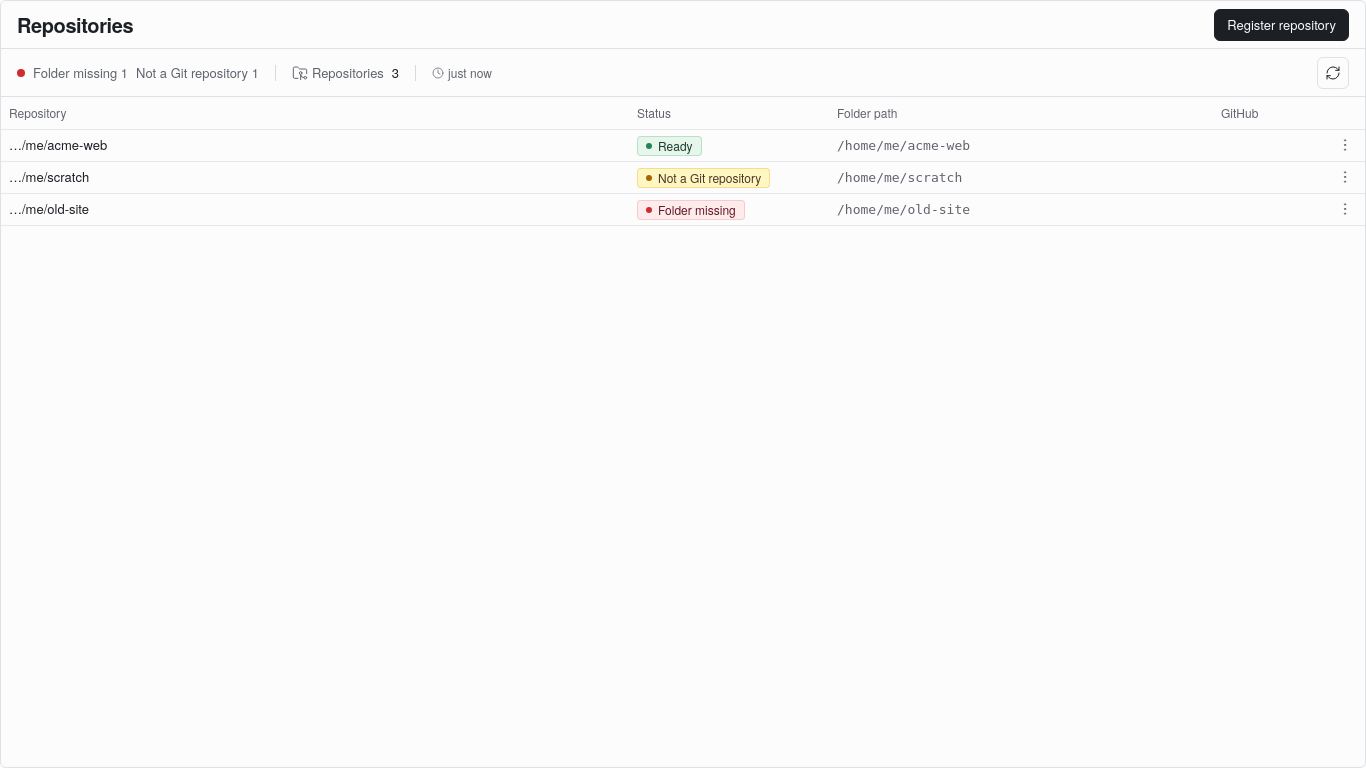
Test: Repositories › puts Unregister alone behind a divider, after View Deploy-state
What coordinates should you click on to do the following:
click the button named "Actions for …/me/old-site"
I would click on:
 (1345, 208)
Its box is [1333,196,1357,220].
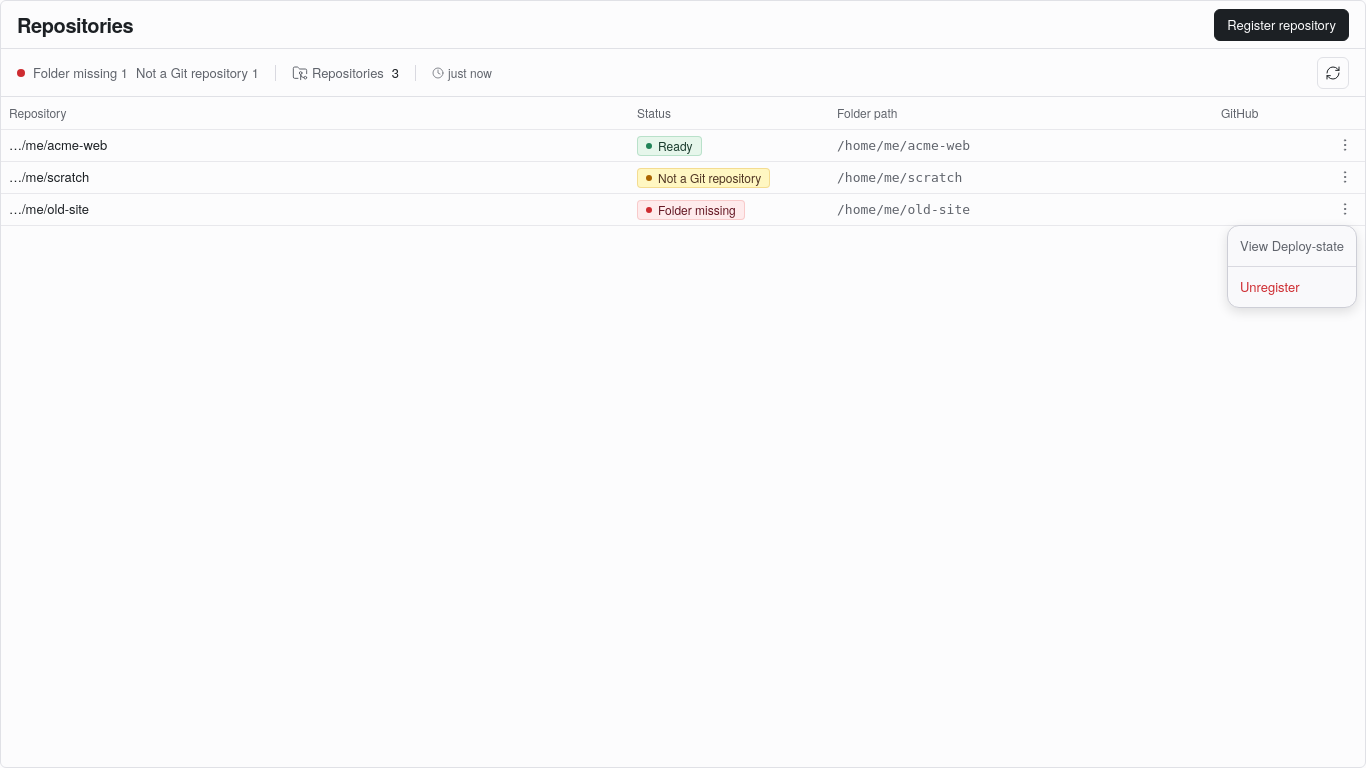
expect the menu items read "View Deploy-state", "Unregister", in this order: met, box [1240,236,1344,255]; [1240,277,1300,296]
